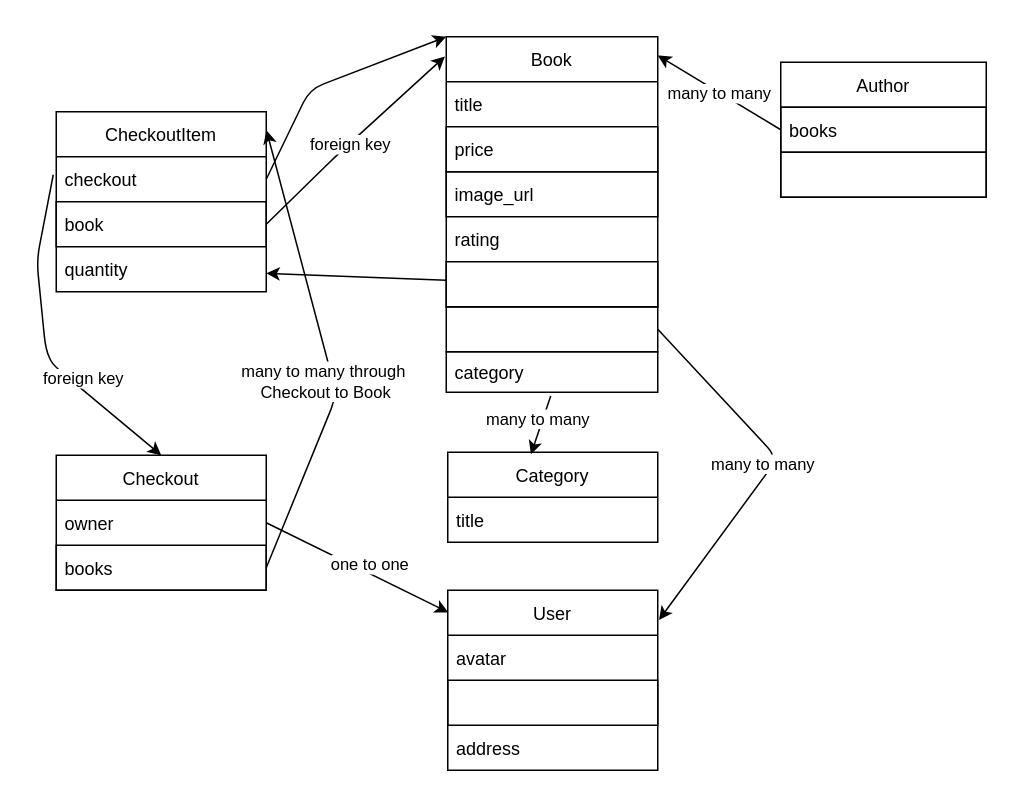
Image size: 1013x797. Some labels were removed from this diagram. The centre of each missing label's shape, as x and y in pixels:
likes: pixel 551 328
name: pixel 882 174
phone_number: pixel 552 702
stock: pixel 551 283
